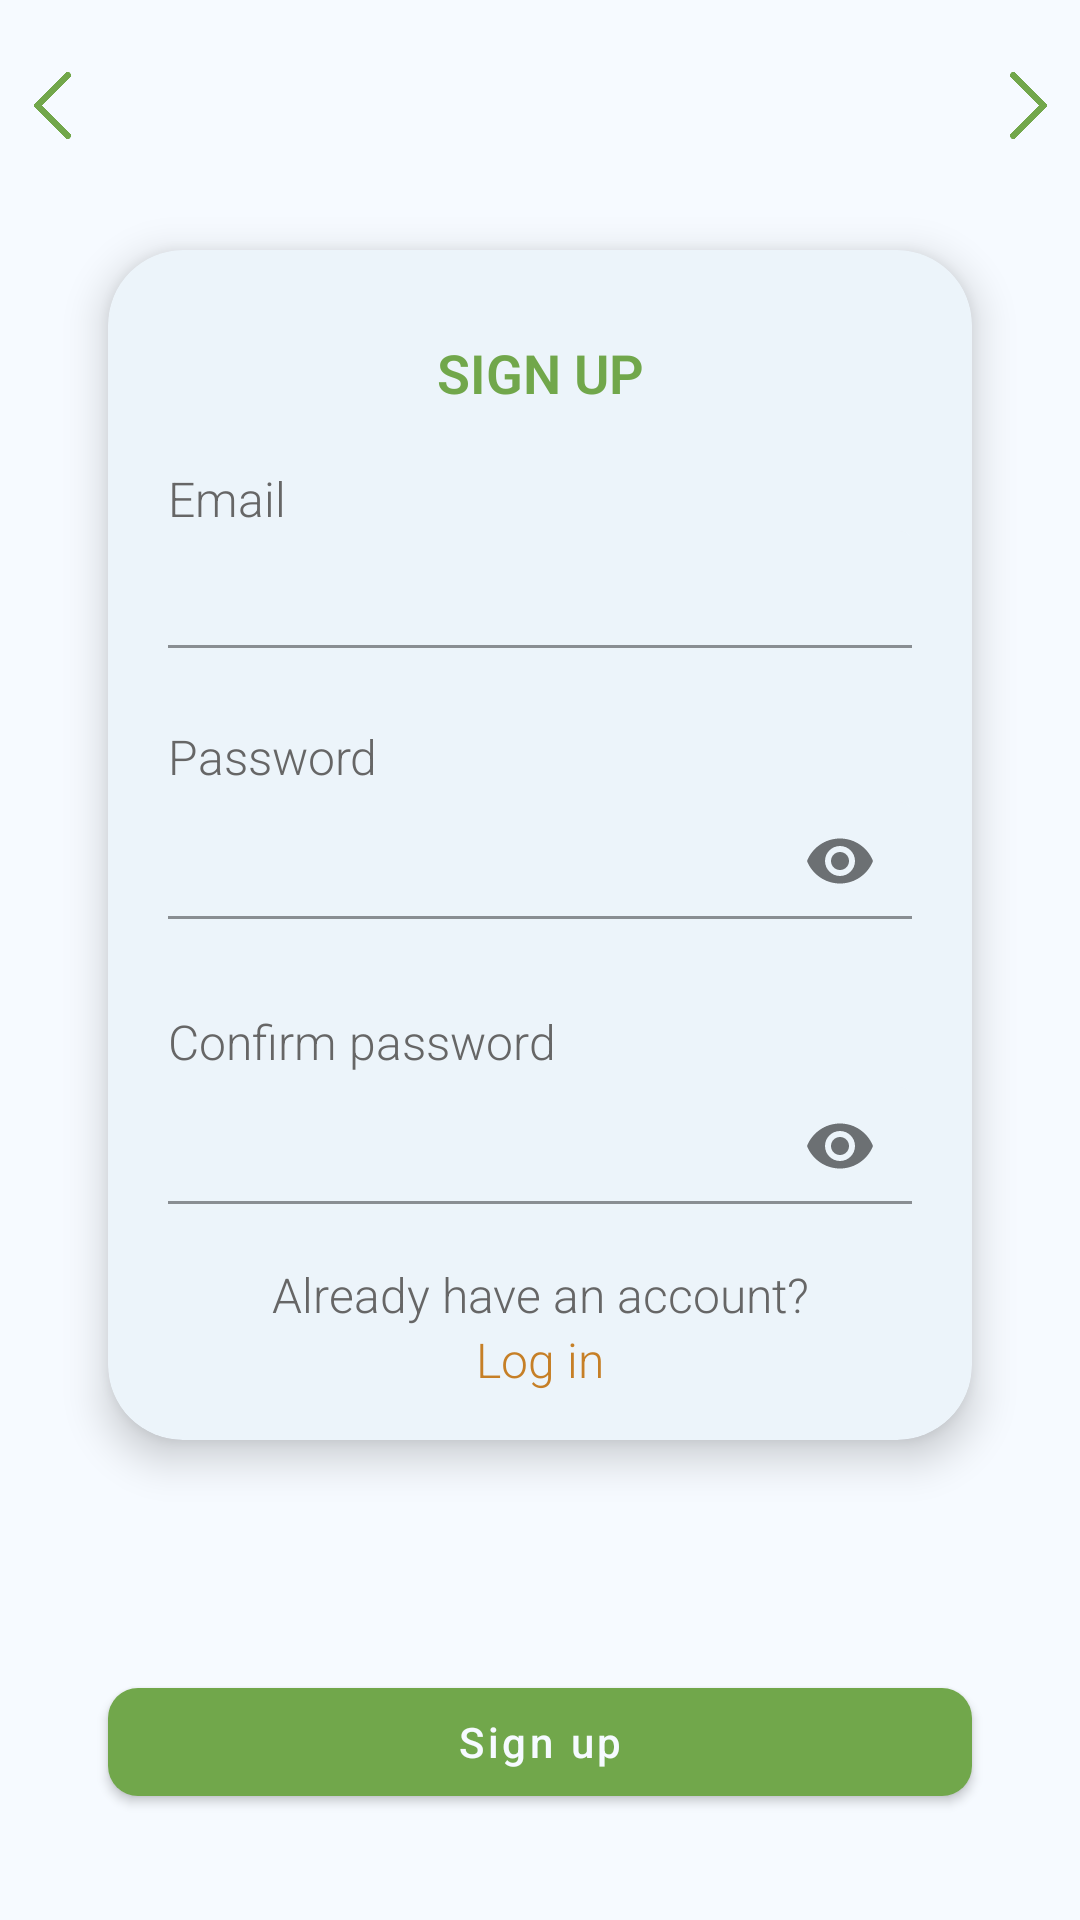

Where icons sit on this 1080×1920 app screen, as (x1=x1, y1=y1, x2=x2, y2=y2):
back: (x1=34, y1=72, x2=71, y2=139)
